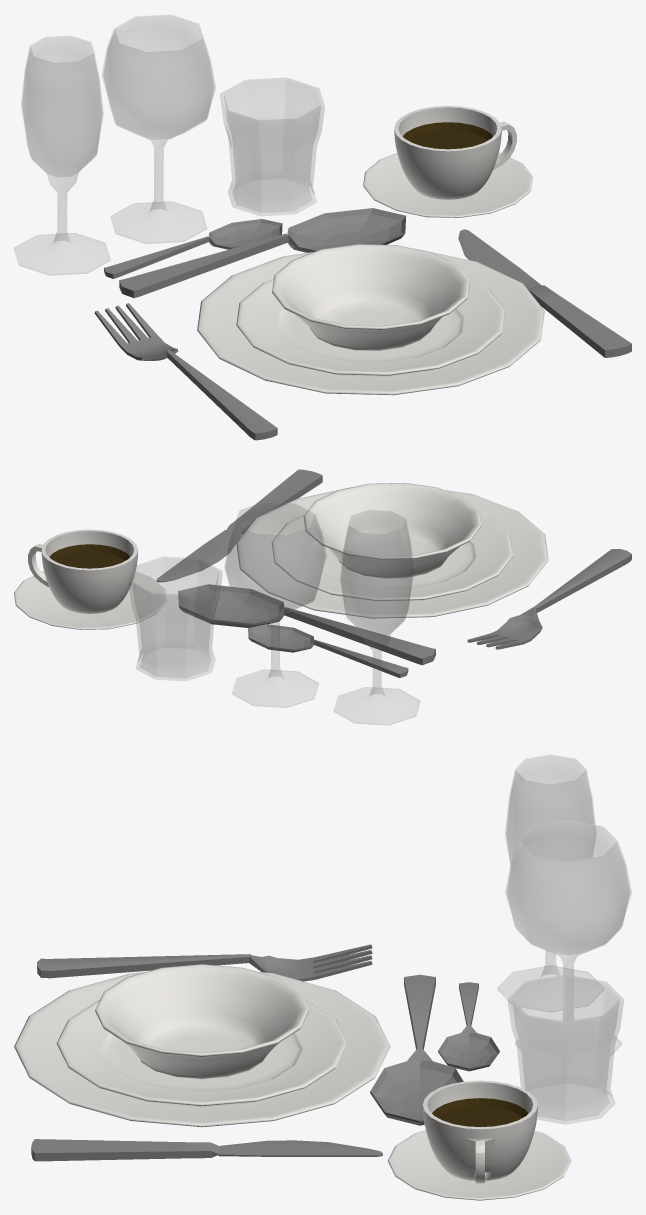
File: dinnerset.fbx
3 views of the same model, one above another, from view 1: azimuth 30°, elevation 25°; view 2: azimuth 150°, elevation 25°; view 3: azimuth 270°, elevation 25° (orthographic). The views are drawn at different scales.
Visible parts, largest first — view 1: bowl, redwineglas, argeplate, whitewineglas, glas, mediumplate, tekopp:polySurface1, largespoon, teecupplate, fork, knife, smallspoon (+1 smaller); view 2: bowl, redwineglas, argeplate, whitewineglas, glas, mediumplate, largespoon, tekopp:polySurface1, teecupplate, knife, fork, smallspoon (+1 smaller); view 3: bowl, argeplate, redwineglas, glas, mediumplate, whitewineglas, tekopp:polySurface1, teecupplate, knife, fork, largespoon, smallspoon (+1 smaller).
Part boxes in pixels (x1,y1,x2,y2): bowl: [272, 244, 469, 350]; redwineglas: [102, 15, 215, 243]; argeplate: [197, 248, 544, 395]; whitewineglas: [14, 36, 110, 275]; glas: [220, 78, 324, 215]; mediumplate: [236, 279, 505, 375]; tekopp:polySurface1: [394, 106, 516, 199]; largespoon: [119, 208, 405, 298]; teecupplate: [363, 152, 532, 217]; fork: [94, 303, 277, 440]; knife: [458, 229, 631, 357]; smallspoon: [104, 219, 282, 278]; bowl: [303, 482, 481, 578]; redwineglas: [224, 502, 326, 707]; argeplate: [236, 487, 548, 618]; whitewineglas: [334, 510, 420, 725]; glas: [129, 557, 222, 680]; mediumplate: [271, 514, 513, 600]; largespoon: [178, 584, 435, 665]; tekopp:polySurface1: [28, 529, 138, 613]; teecupplate: [14, 571, 166, 629]; knife: [156, 469, 322, 582]; fork: [467, 549, 631, 649]; smallspoon: [248, 624, 408, 677]; bowl: [95, 964, 309, 1079]; argeplate: [14, 972, 390, 1127]; redwineglas: [505, 820, 631, 1055]; glas: [508, 975, 623, 1124]; mediumplate: [56, 999, 347, 1106]; whitewineglas: [497, 754, 603, 1011]; tekopp:polySurface1: [422, 1080, 537, 1183]; teecupplate: [388, 1130, 571, 1200]; knife: [31, 1139, 382, 1161]; fork: [37, 944, 372, 981]; largespoon: [370, 974, 463, 1125]; smallspoon: [438, 982, 499, 1071].
Size of the model in its own units: 10.3 by 4.23 by 10.73.
